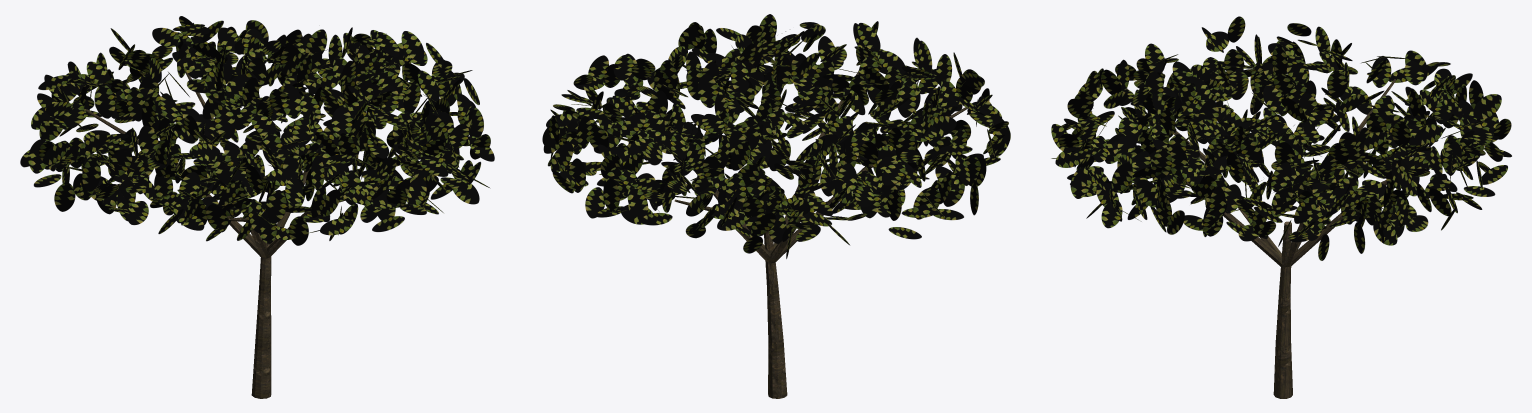
The model's file is acacia_savannah_01.glb.
The picture shows the model from 3 angles, left to right: view 1: azimuth 30°, elevation 25°; view 2: azimuth 150°, elevation 25°; view 3: azimuth 270°, elevation 25°; orthographic projection. The views are drawn at different scales.
Parts seen in each view (by area): view 1: acacia_savannah_01; view 2: acacia_savannah_01; view 3: acacia_savannah_01.
Boxes of the visible parts, left/top/right/bottom form: acacia_savannah_01: left=20, top=16, right=494, bottom=398; acacia_savannah_01: left=542, top=14, right=1010, bottom=398; acacia_savannah_01: left=1051, top=16, right=1511, bottom=398.
Bounding box in the file's own units: 9.72 × 6.65 × 9.76.
2 materials, 2 textured.
